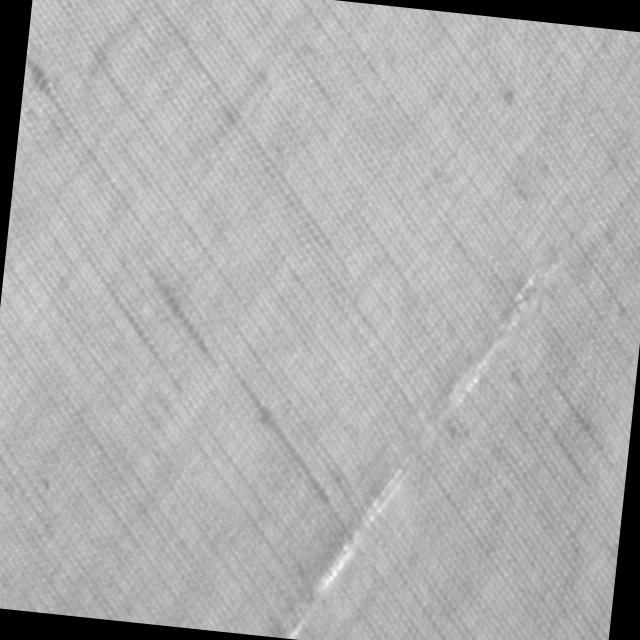thread error: (281, 219, 567, 640)
